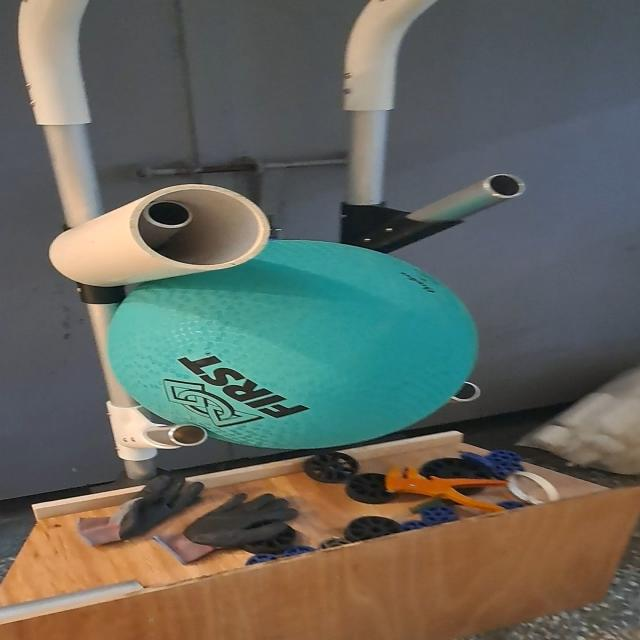ALGAE: (103, 236, 483, 454)
CORAL: (45, 178, 278, 301)
